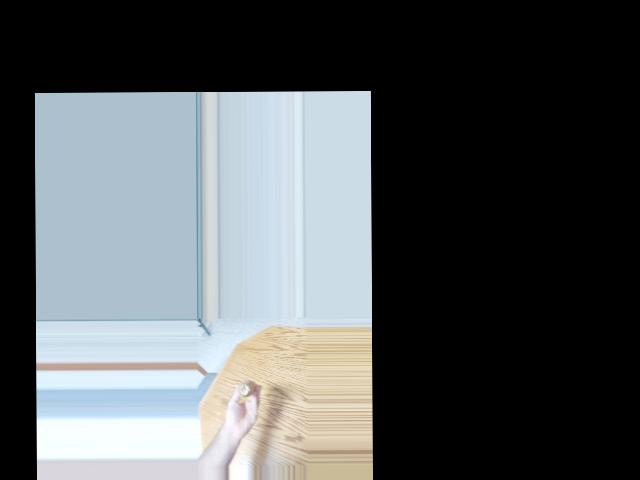sweet_potato: (235, 377, 251, 396)
